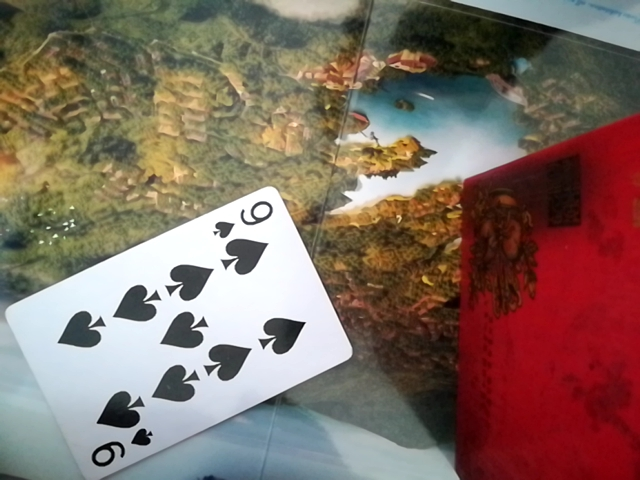ht 9: (10, 185, 355, 477)
